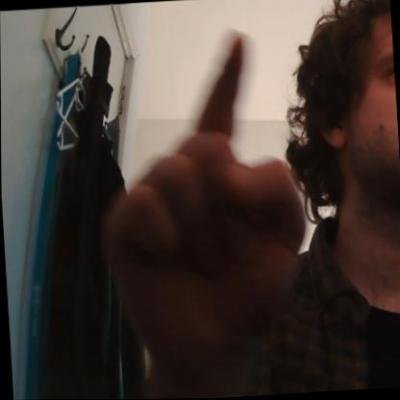hand: (94, 28, 314, 357)
